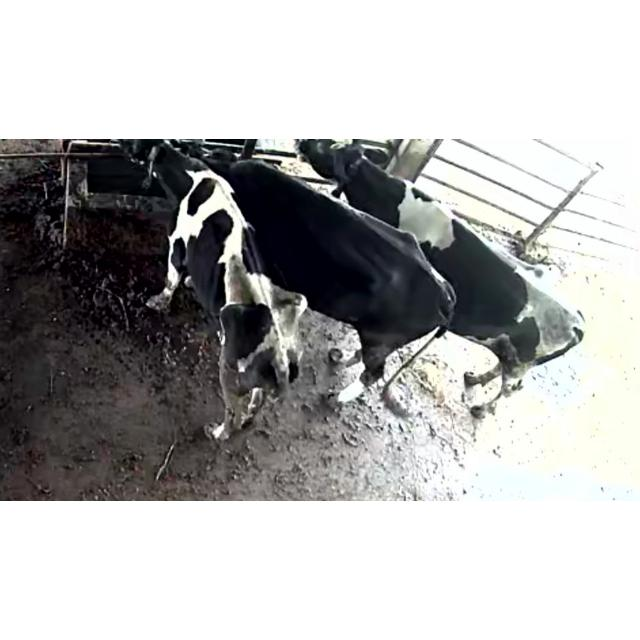drink: (186, 139, 304, 219)
